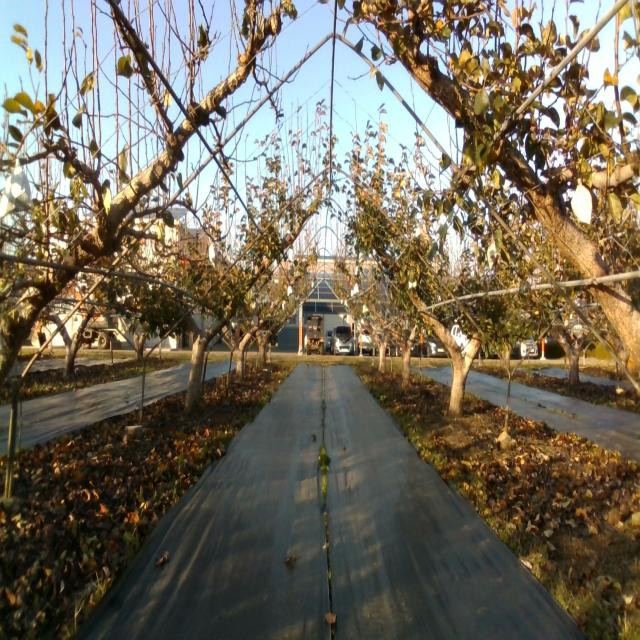pearbags: (0, 159, 33, 219), (570, 179, 592, 224), (486, 237, 499, 271), (416, 220, 431, 242), (208, 238, 218, 268)
